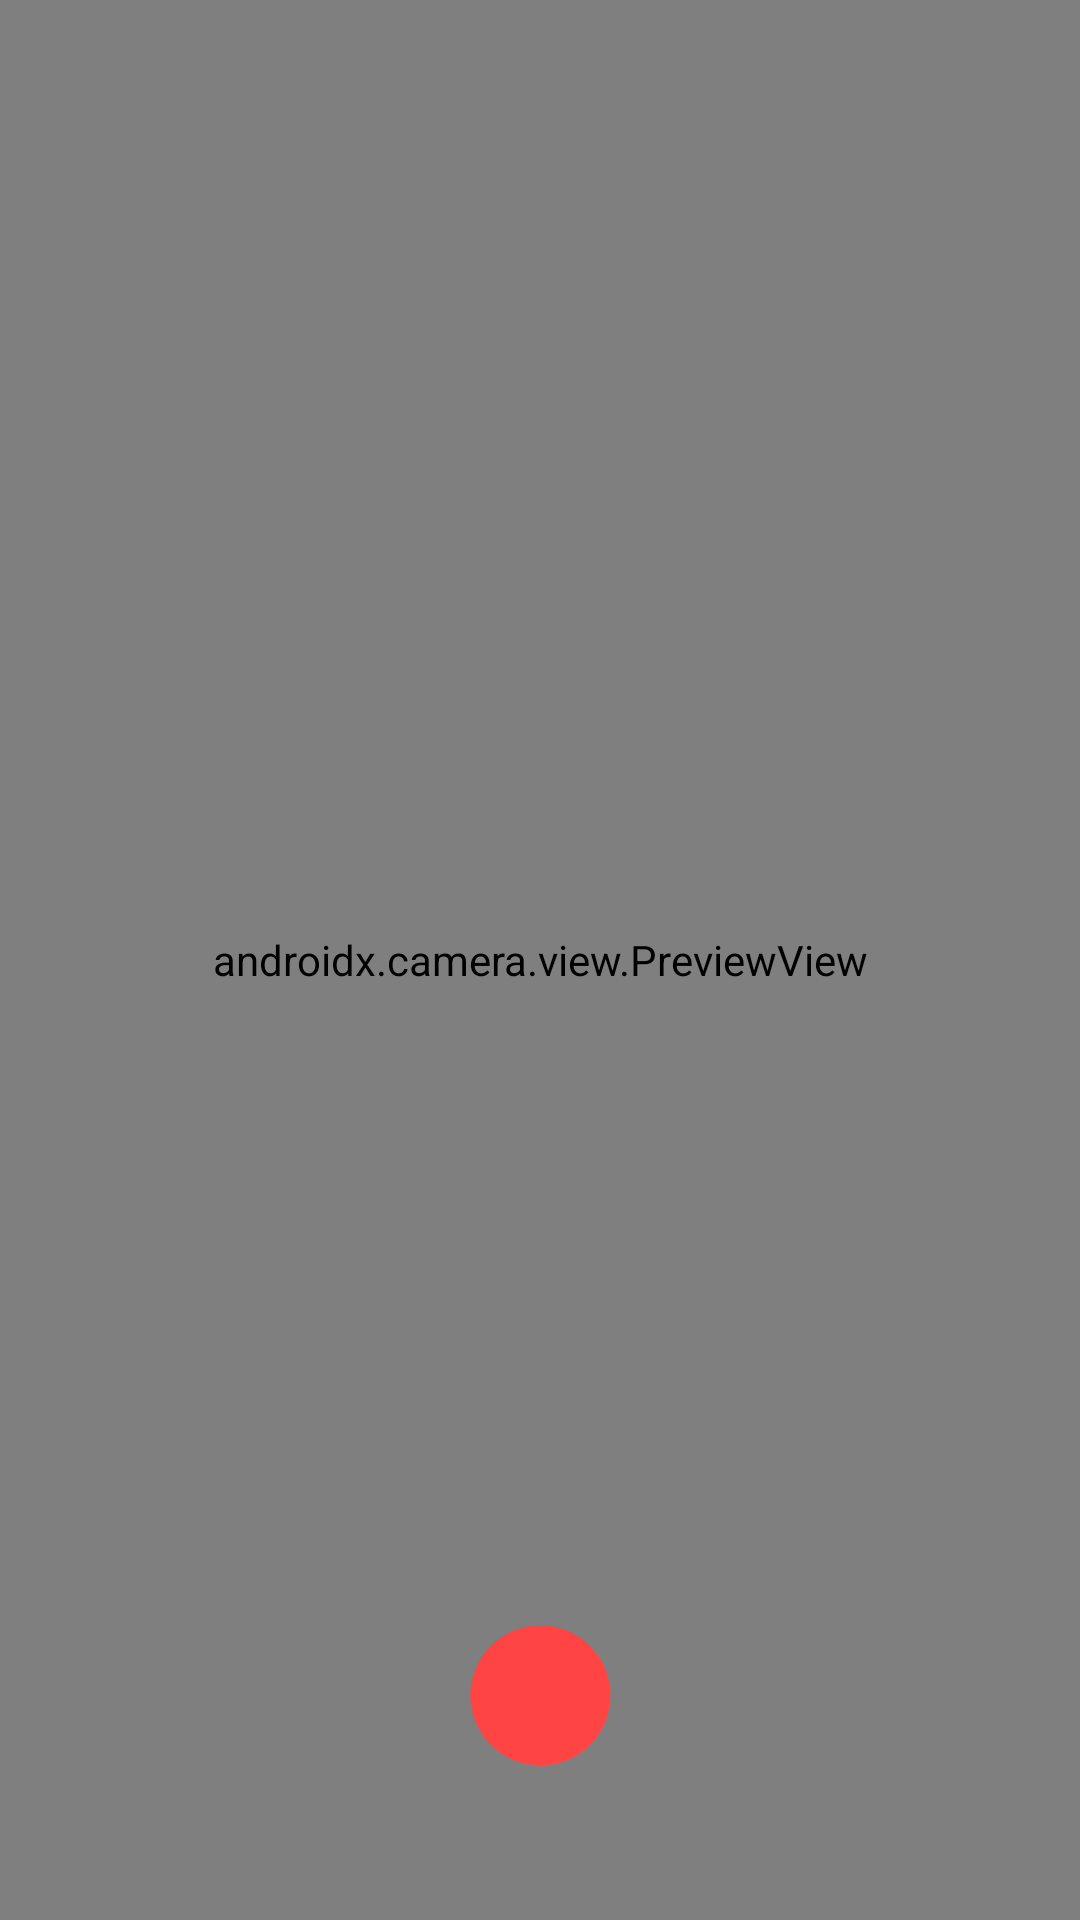

Where icons sit on this 1080 × 1920 app screen, as box(x1, y1, x2, y2):
fiber manual record: box(470, 1625, 610, 1765)
